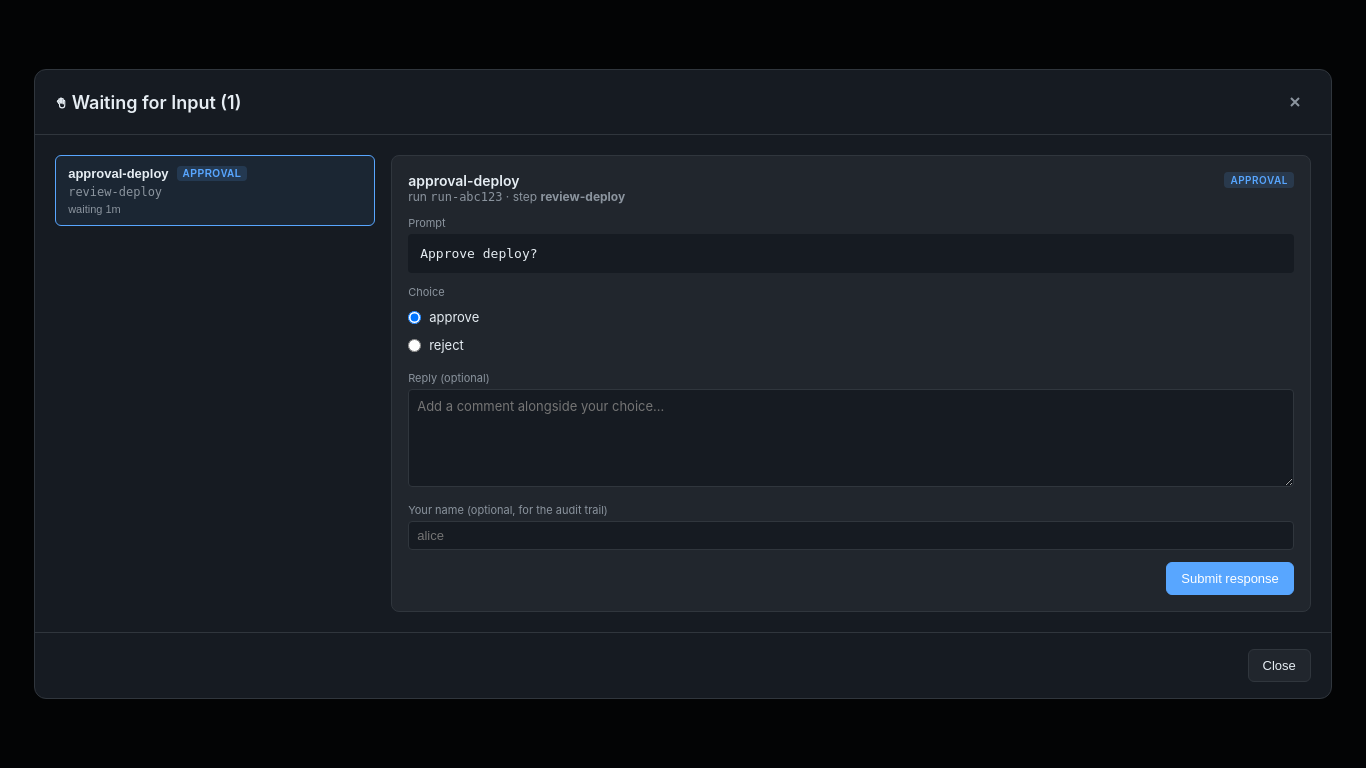
Test: WaitingInputsModal › drops the record when the server returns 404 (already resolved race)
The image size is (1366, 768).
Click the button "Submit response" at [1230, 578], box [1166,562,1294,595]
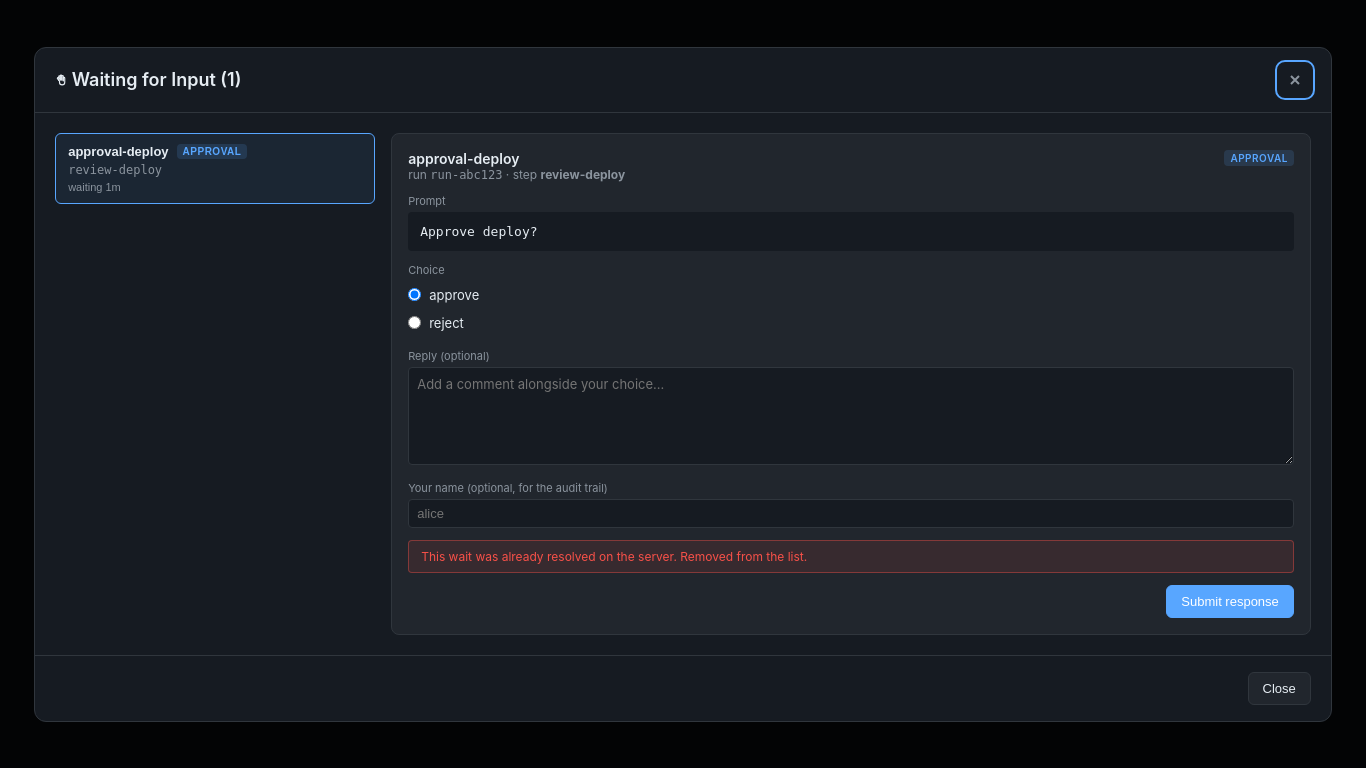
Check: the message shows "already resolved", box [421,548,807,564]
